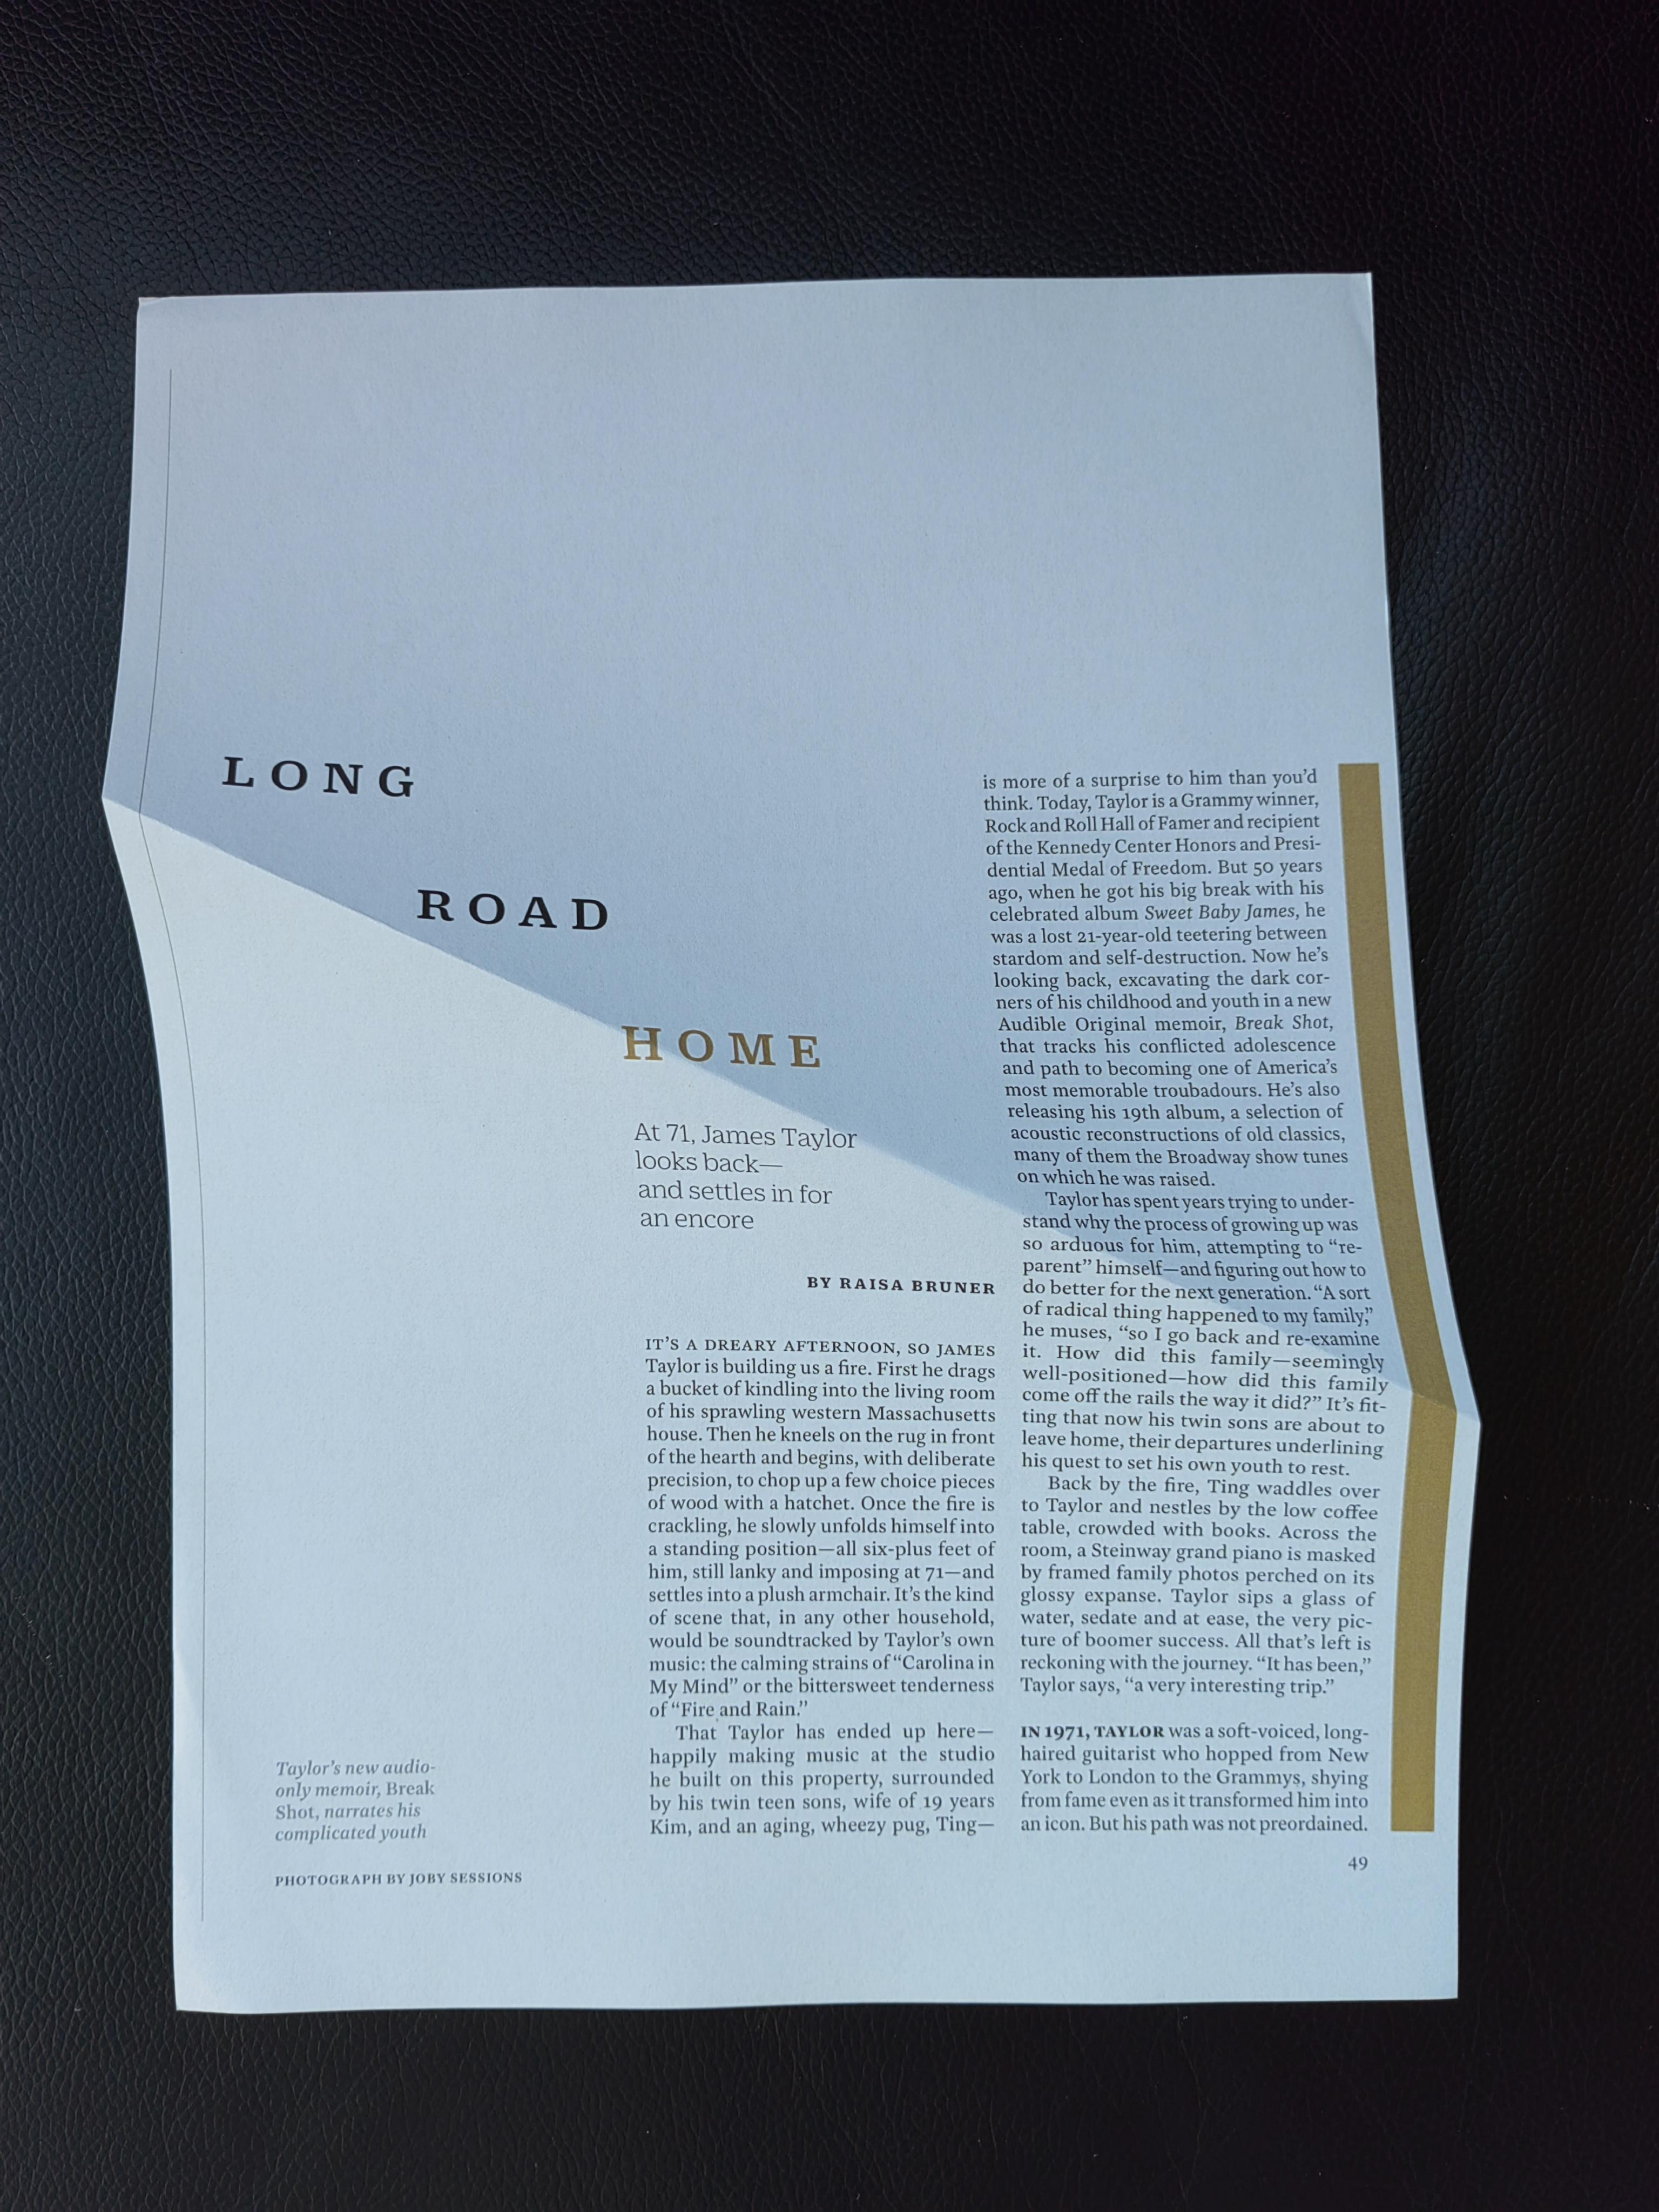paper: (54, 153, 1574, 2212)
